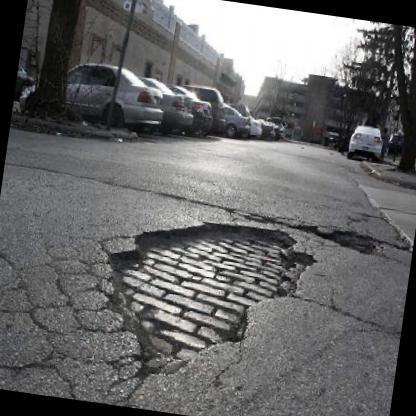pothole: (100, 218, 317, 377), (321, 228, 383, 258)
